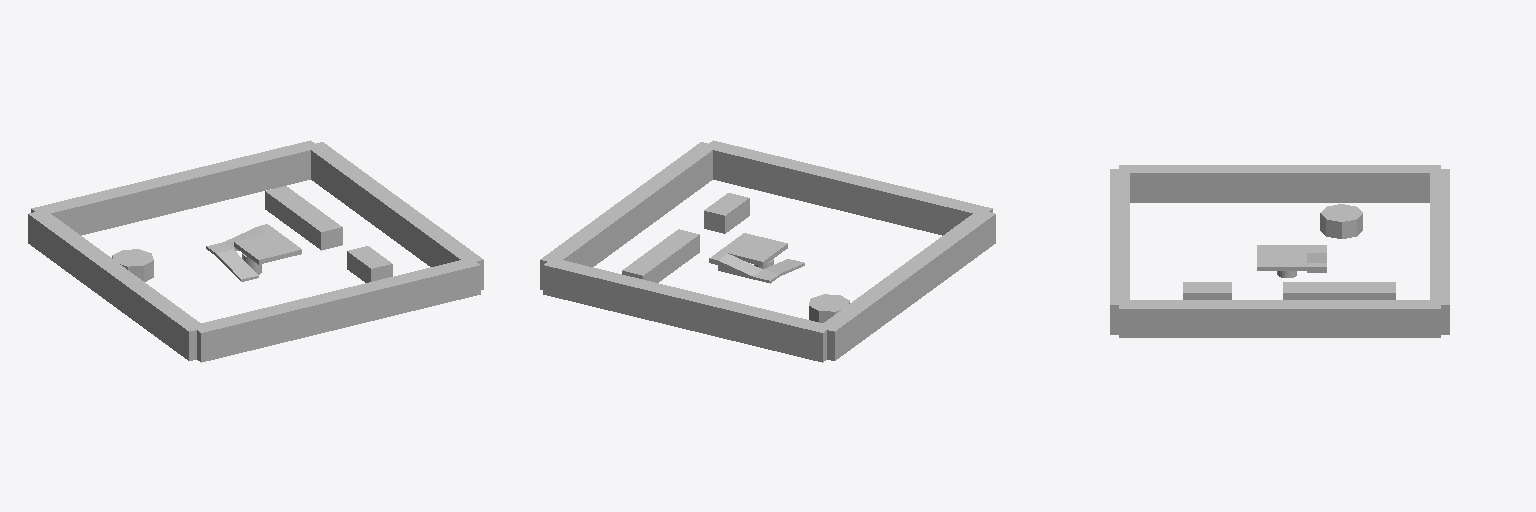
File: 3rdPerson Visual.obj
The picture shows the model from 3 angles: view 1: azimuth 30°, elevation 25°; view 2: azimuth 150°, elevation 25°; view 3: azimuth 270°, elevation 25°; orthographic projection.
Parts seen in each view (by area): view 1: Cube.003, Cube.002, Cylinder.003; view 2: Cube.003, Cube.002, Cylinder.003; view 3: Cube.003, Cube.002, Cylinder.003.
Boxes of the visible parts, x1=… form: Cube.003: x1=28, y1=140, x2=483, y2=362; Cube.002: x1=206, y1=186, x2=392, y2=282; Cylinder.003: x1=112, y1=249, x2=153, y2=281; Cube.003: x1=540, y1=140, x2=995, y2=362; Cube.002: x1=622, y1=193, x2=804, y2=283; Cylinder.003: x1=809, y1=294, x2=849, y2=322; Cube.003: x1=1110, y1=165, x2=1449, y2=337; Cube.002: x1=1183, y1=245, x2=1395, y2=299; Cylinder.003: x1=1320, y1=204, x2=1362, y2=238.
Size of the model in its own units: 34 by 4.24 by 34.